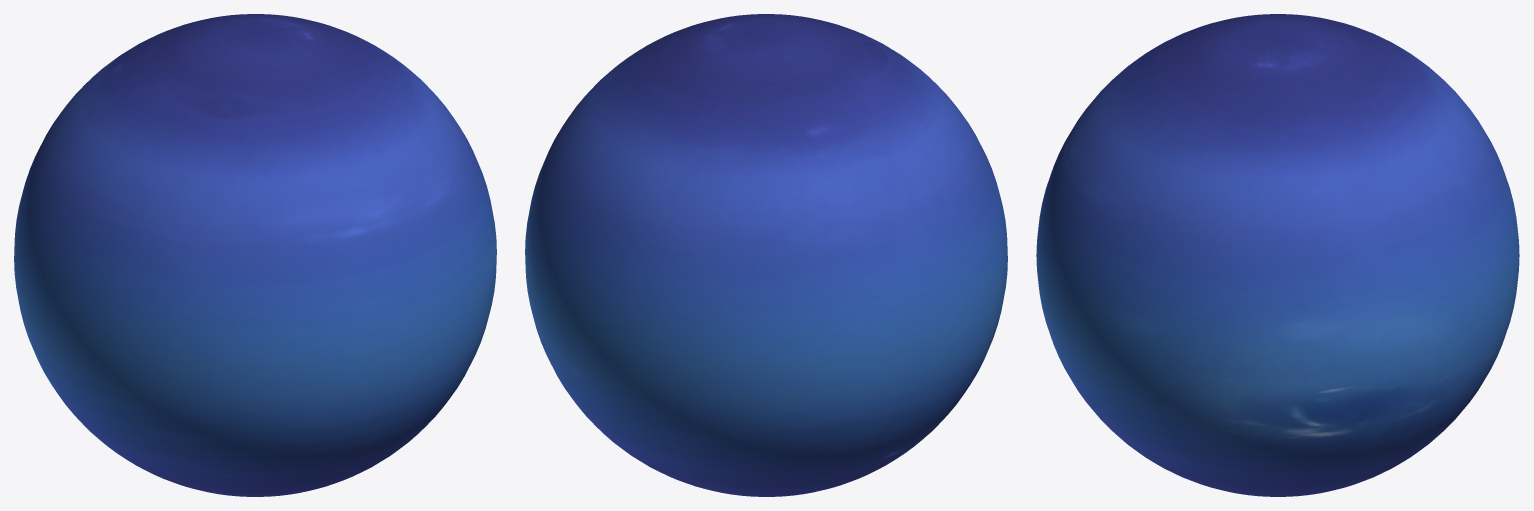
The model's file is neptune.glb.
3 renders of one model, left to right at view 1: azimuth 30°, elevation 25°; view 2: azimuth 150°, elevation 25°; view 3: azimuth 270°, elevation 25°, orthographic.
Size of the model in its own units: 2 by 2 by 2.
Materials: 1 (1 with a texture image).
